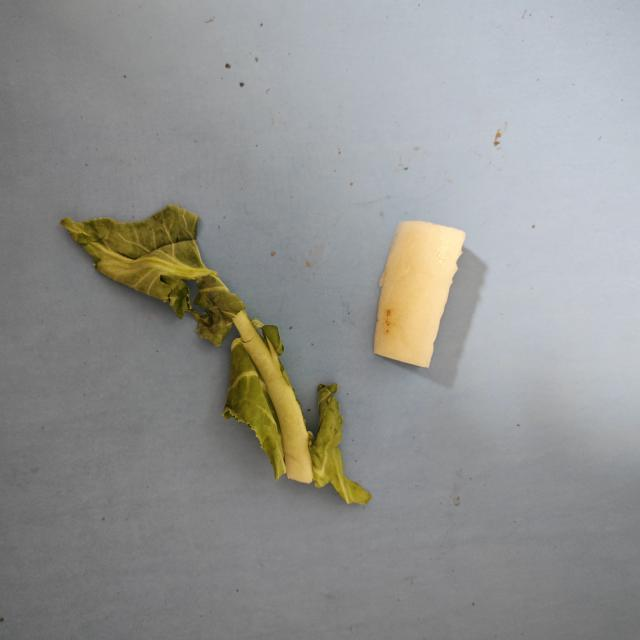-Kitchen waste - vegetable roots and leaves-: (56, 202, 368, 511)
-Kitchen waste - white radish-: (372, 217, 464, 370)
